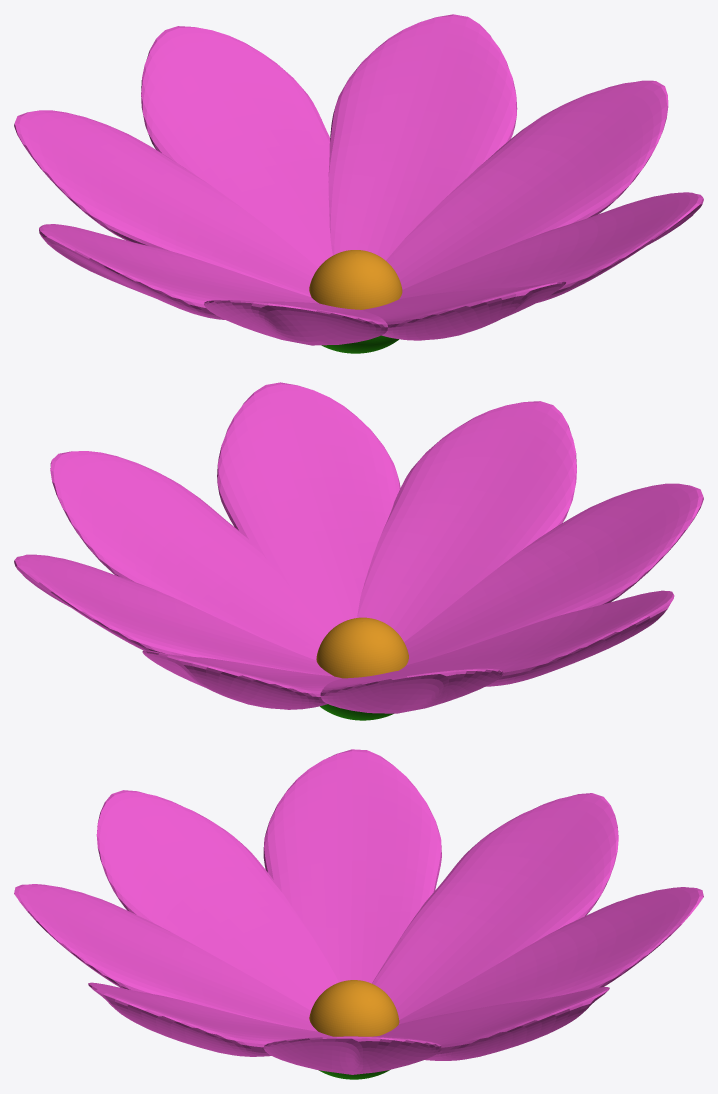
The model's file is Flower.fbx.
3 views of the same model, one above another, from view 1: azimuth 30°, elevation 25°; view 2: azimuth 150°, elevation 25°; view 3: azimuth 270°, elevation 25° (orthographic). The views are drawn at different scales.
Parts seen in each view (by area): view 1: Peatle.006, Peatle.001, Peatle.004, Peatle.008, Peatle.007, Peatle.003, Peatle.002, Peatle.005, Sphere.001, Sphere.002; view 2: Peatle.002, Peatle.007, Peatle.004, Peatle.005, Peatle.006, Peatle.003, Peatle.001, Peatle.008, Sphere.001, Sphere.002; view 3: Peatle.003, Peatle.008, Peatle.005, Peatle.002, Peatle.001, Peatle.006, Peatle.007, Peatle.004, Sphere.001.
Part boxes in pixels (<box>): Peatle.006: <box>328,14,517,260</box>; Peatle.001: <box>141,26,332,267</box>; Peatle.004: <box>386,80,668,289</box>; Peatle.008: <box>14,110,317,296</box>; Peatle.007: <box>399,192,703,303</box>; Peatle.003: <box>39,224,318,319</box>; Peatle.002: <box>362,280,566,340</box>; Peatle.005: <box>204,300,387,345</box>; Sphere.001: <box>309,250,402,309</box>; Sphere.002: <box>321,335,398,353</box>; Peatle.002: <box>357,401,576,641</box>; Peatle.007: <box>217,382,400,632</box>; Peatle.004: <box>50,451,327,660</box>; Peatle.005: <box>404,483,703,664</box>; Peatle.006: <box>14,554,333,676</box>; Peatle.003: <box>398,590,674,686</box>; Peatle.001: <box>142,650,341,709</box>; Peatle.008: <box>320,668,503,713</box>; Sphere.001: <box>316,617,408,678</box>; Sphere.002: <box>320,704,393,720</box>; Peatle.003: <box>263,749,441,983</box>; Peatle.008: <box>372,793,618,1019</box>; Peatle.005: <box>96,790,338,1010</box>; Peatle.002: <box>14,884,317,1031</box>; Peatle.001: <box>399,887,703,1024</box>; Peatle.006: <box>380,987,609,1060</box>; Peatle.007: <box>88,982,332,1056</box>; Peatle.004: <box>263,1036,441,1074</box>; Sphere.001: <box>309,980,399,1036</box>.
Size of the model in its own units: 447 by 128 by 450.
